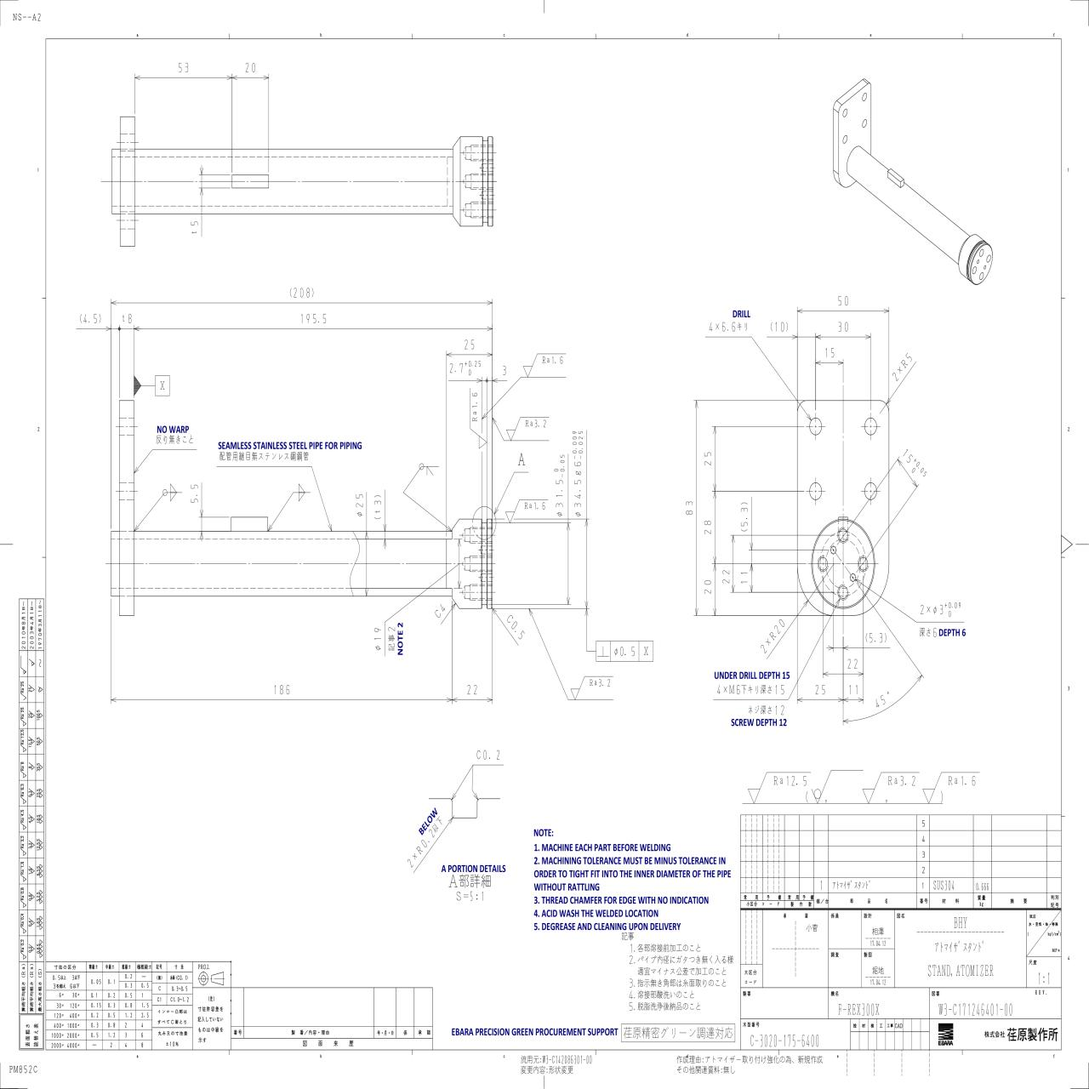basic_dimension: (301, 313, 327, 324), (190, 484, 199, 505), (294, 288, 310, 298), (274, 685, 290, 695), (83, 313, 97, 324), (740, 508, 748, 527), (838, 321, 849, 333), (869, 633, 882, 643), (721, 570, 731, 583), (245, 62, 256, 73), (467, 684, 477, 696), (704, 520, 712, 535), (686, 501, 694, 516), (704, 452, 712, 467), (704, 580, 712, 594), (178, 62, 188, 73), (815, 684, 825, 695), (464, 339, 474, 350), (848, 659, 857, 669), (775, 322, 784, 332), (839, 296, 848, 306), (825, 348, 834, 358), (741, 571, 748, 583), (850, 685, 858, 694), (502, 365, 506, 376)
datum_symbol: (134, 375, 170, 396)
dimension_chamfer_symbol: (507, 615, 525, 640), (476, 749, 500, 760), (434, 603, 446, 619)
dimension_chamfer_text: (510, 619, 526, 640), (482, 749, 500, 760), (439, 603, 446, 614)
dimension_degree_symbol: (874, 691, 889, 709)
dimension_diameter_symbol: (572, 429, 584, 518), (554, 450, 566, 519), (932, 602, 961, 617), (373, 627, 383, 654), (355, 493, 364, 521)
dimension_diameter_text: (573, 478, 583, 508), (555, 479, 564, 510), (355, 493, 363, 509), (373, 627, 382, 641)
dimension_metric_symbol: (714, 683, 742, 695)
dimension_metric_text: (735, 684, 741, 695)
dimension_radius_symbol: (416, 828, 435, 855), (769, 618, 786, 641), (901, 352, 913, 369)
dimension_radius_text: (420, 827, 436, 850), (773, 618, 786, 635), (905, 352, 913, 365)
dimension_thickness_symbol: (374, 499, 382, 515), (121, 313, 132, 324), (191, 219, 198, 235)
dimension_thickness_text: (127, 312, 132, 325), (373, 500, 381, 506), (191, 221, 198, 227)
explicit_tolerance_text: (902, 448, 927, 477), (449, 360, 480, 376)
gdt_frame_symbol: (596, 641, 653, 662)
gdt_perpendicularity_symbol: (597, 646, 609, 656)
surface_finish_symbol: (748, 772, 811, 804), (862, 772, 920, 804), (922, 772, 980, 804), (811, 770, 864, 804), (523, 353, 566, 378), (506, 417, 549, 442), (505, 499, 548, 524), (470, 388, 487, 449), (570, 676, 613, 700)
surface_finish_text: (785, 775, 807, 787), (900, 775, 918, 788), (959, 776, 976, 785), (534, 418, 547, 428), (598, 678, 611, 687), (533, 502, 545, 510), (472, 393, 478, 408), (552, 356, 563, 364)
